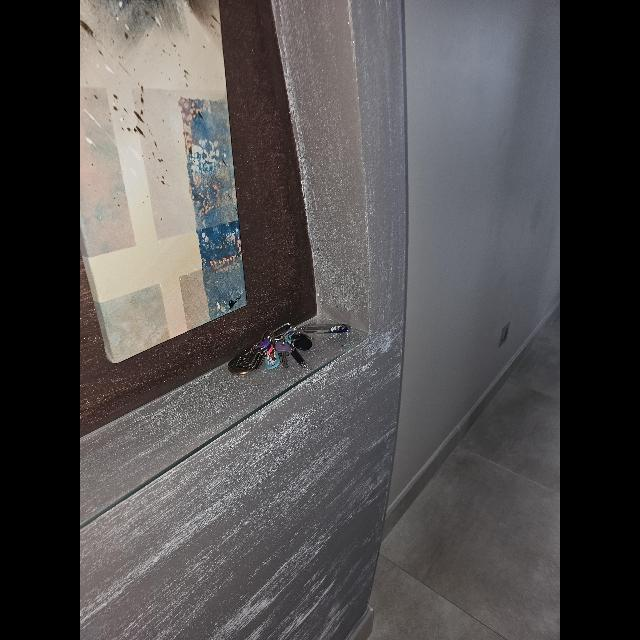Keys: (228, 320, 346, 376)
